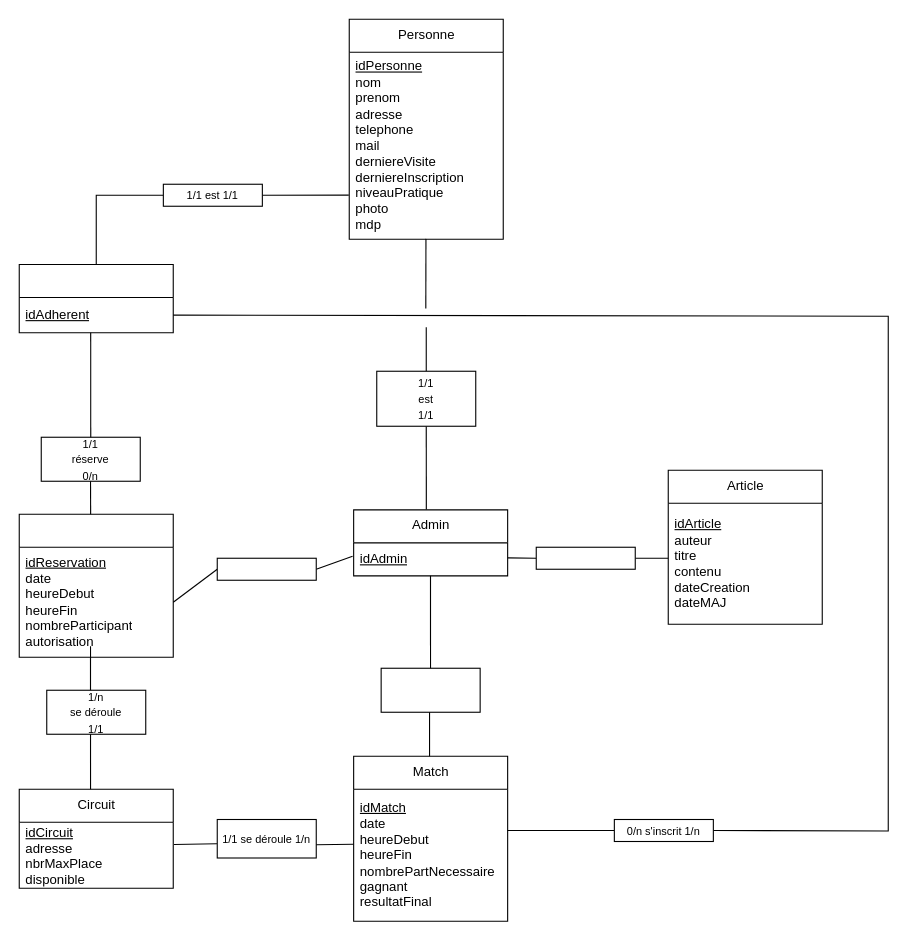
Image size: 909x941. Some labels were removed from this diagram. The box of each missing label's shape, as (x1, y1, x2, y2) in pixels:
1/1 gère 1/n: (380, 667, 480, 712)
1/1 écrit 0/n: (535, 546, 635, 569)
1/n gère 1/1: (216, 557, 316, 580)
Adhérent: (18, 263, 173, 333)
Réservation: (18, 513, 173, 657)
